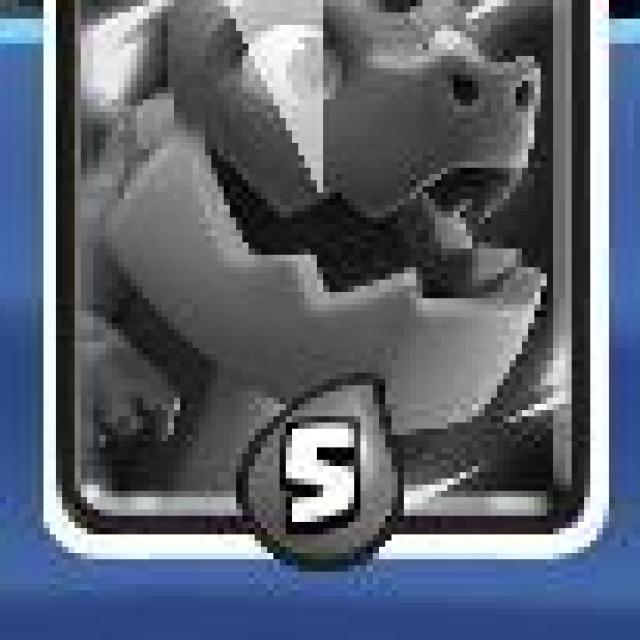Electro_Dragon: (39, 0, 616, 576)
